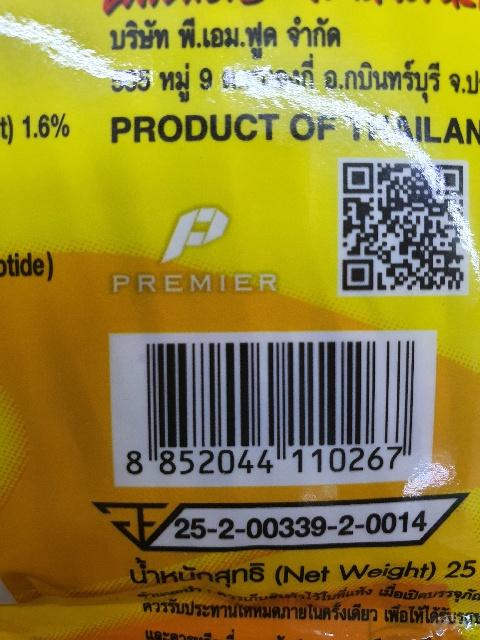Barcode: (110, 333, 433, 486)
